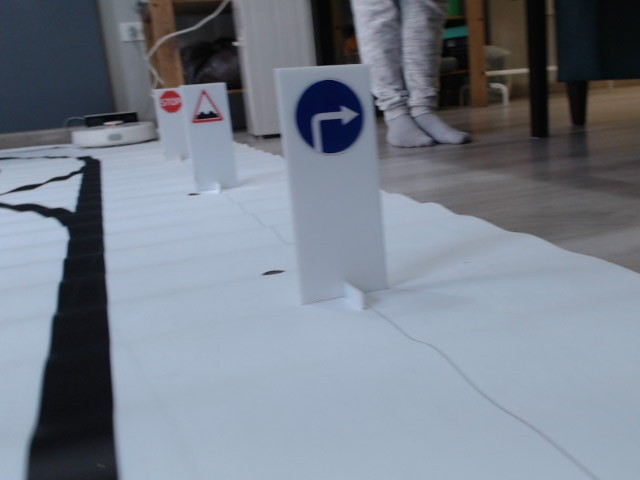Nerov: (190, 90, 224, 122)
Right: (293, 77, 366, 155)
Stop: (160, 89, 183, 114)
